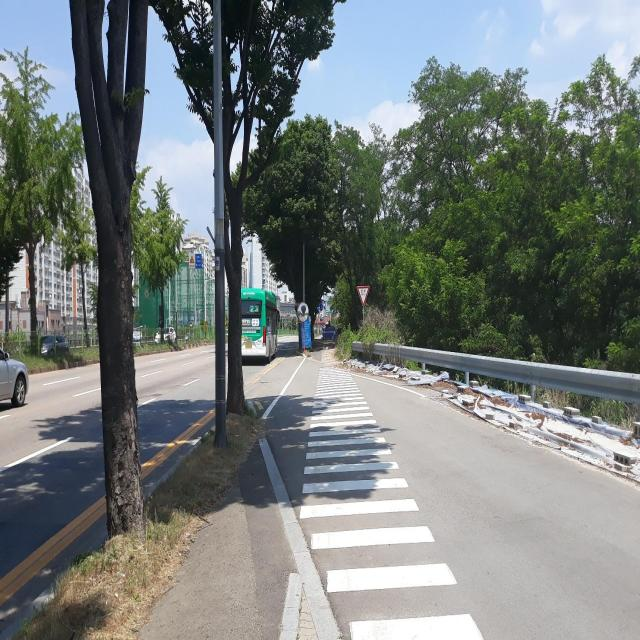횡단보도: (296, 361, 487, 640)
